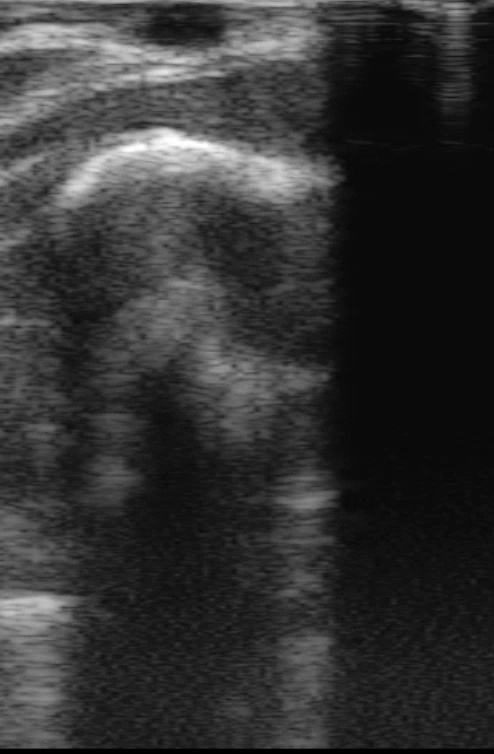veins_detect: (128, 3, 237, 54)
veins_seg: (131, 1, 226, 50)
